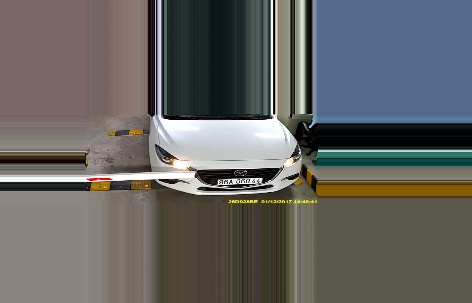plate: (216, 175, 267, 187)
